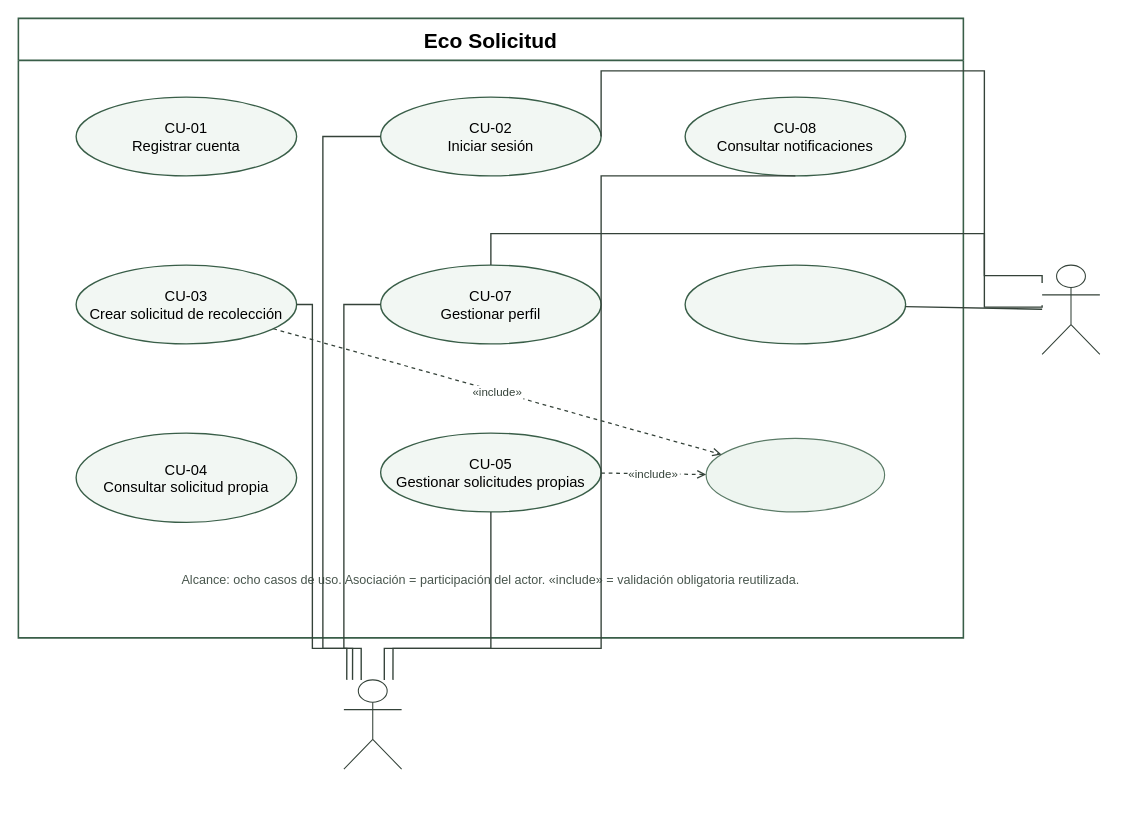
Some shapes in this 1136 by 813 pixel diagram are drawn without their labels. The shapes that lost their labels are listed below. From the top down, each one's centre as x and y in pixels, then its label:
At point (795, 304): "CU-06 Gestionar solicitudes asignadas".
At point (1070, 309): "Organización".
At point (795, 474): "Validar organización y materiales".
At point (372, 724): "Usuario".
